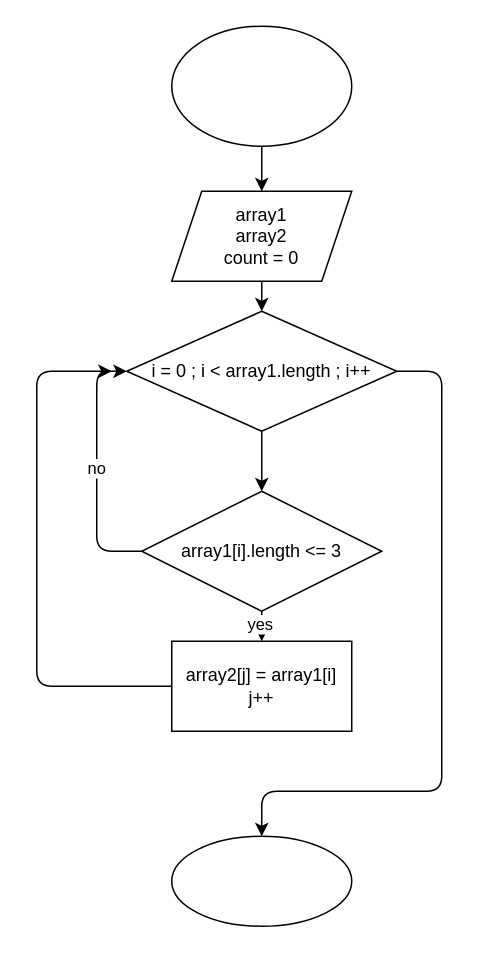
The diagram is 480 pixels wide and 953 high, and some of its shapes have lost their labels. Each missing label, with the centre of its shape:
"and" belongs at [261,880].
"start" belongs at [261,85].
